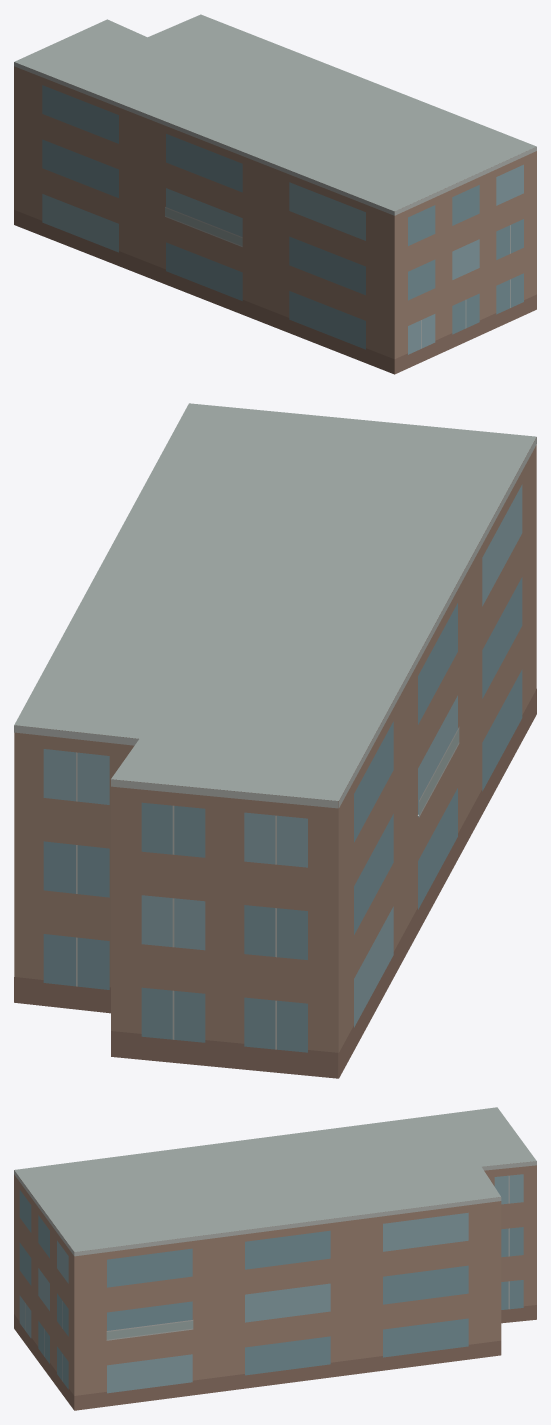
File: survey-upis-32967073.glb
3 renders of one model, top to bottom at view 1: azimuth 30°, elevation 25°; view 2: azimuth 150°, elevation 25°; view 3: azimuth 270°, elevation 25°, orthographic. The views are drawn at different scales.
Parts seen in each view (by area): view 1: survey-upis-32967073.tmp; view 2: survey-upis-32967073.tmp; view 3: survey-upis-32967073.tmp.
Boxes of the visible parts, <box> form: survey-upis-32967073.tmp: <box>14,14,536,374</box>; survey-upis-32967073.tmp: <box>14,403,536,1078</box>; survey-upis-32967073.tmp: <box>14,1107,536,1410</box>.
Bounding box in the file's own units: 17.95 × 9.15 × 27.35.
